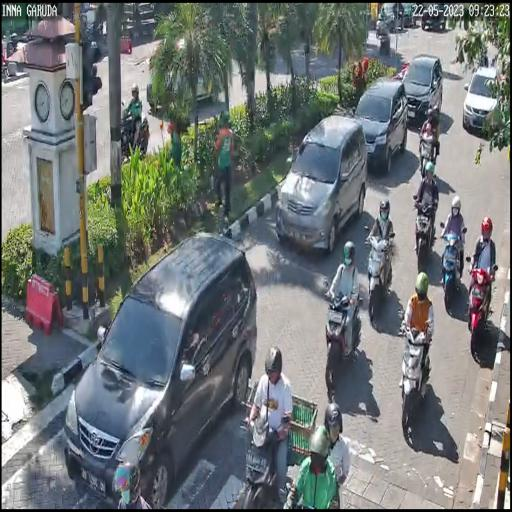mobil: (68, 223, 257, 502), (270, 106, 366, 261), (354, 72, 404, 174), (398, 51, 447, 141), (466, 60, 500, 144)
motor: (313, 278, 370, 394), (233, 406, 294, 506), (392, 315, 436, 436), (438, 220, 470, 316), (365, 223, 398, 315), (466, 254, 494, 360), (412, 190, 438, 274), (414, 127, 444, 177)
